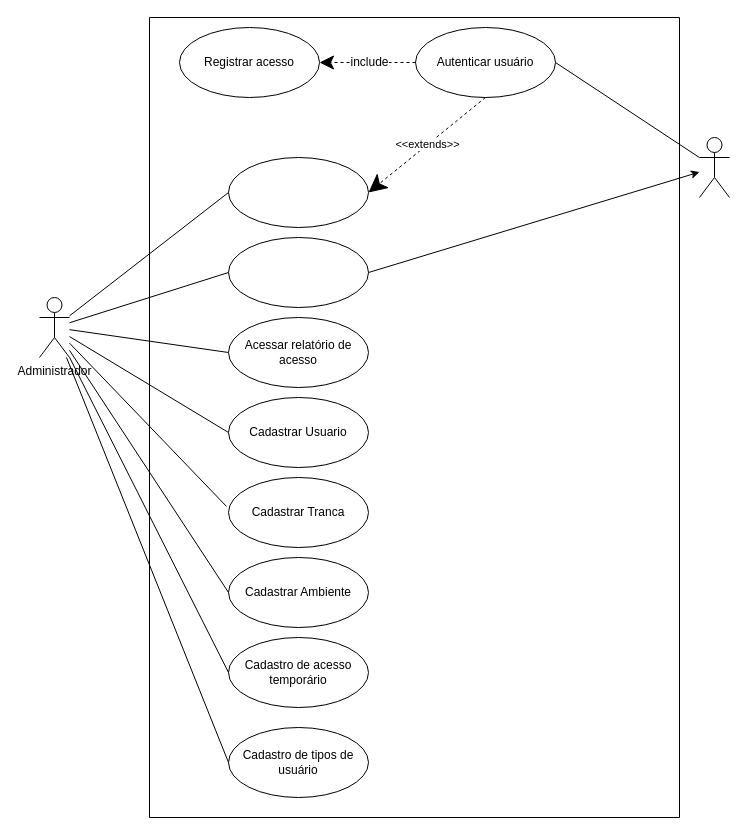
Some shapes in this 750 by 835 pixel diagram are drawn without their labels. Here are the shapes that lost their labels. From the top down, the centre of each, then its label:
At (x=714, y=167): "Tranca".
At (x=298, y=192): "ALERTA: acesso não autorizado".
At (x=298, y=272): "Acessar remotamente".
